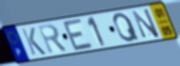1: (87, 16, 108, 48)
E: (61, 17, 96, 52)
K: (20, 26, 48, 57)
N: (130, 7, 162, 40)
Q: (112, 12, 141, 44)
R: (36, 23, 70, 56)
